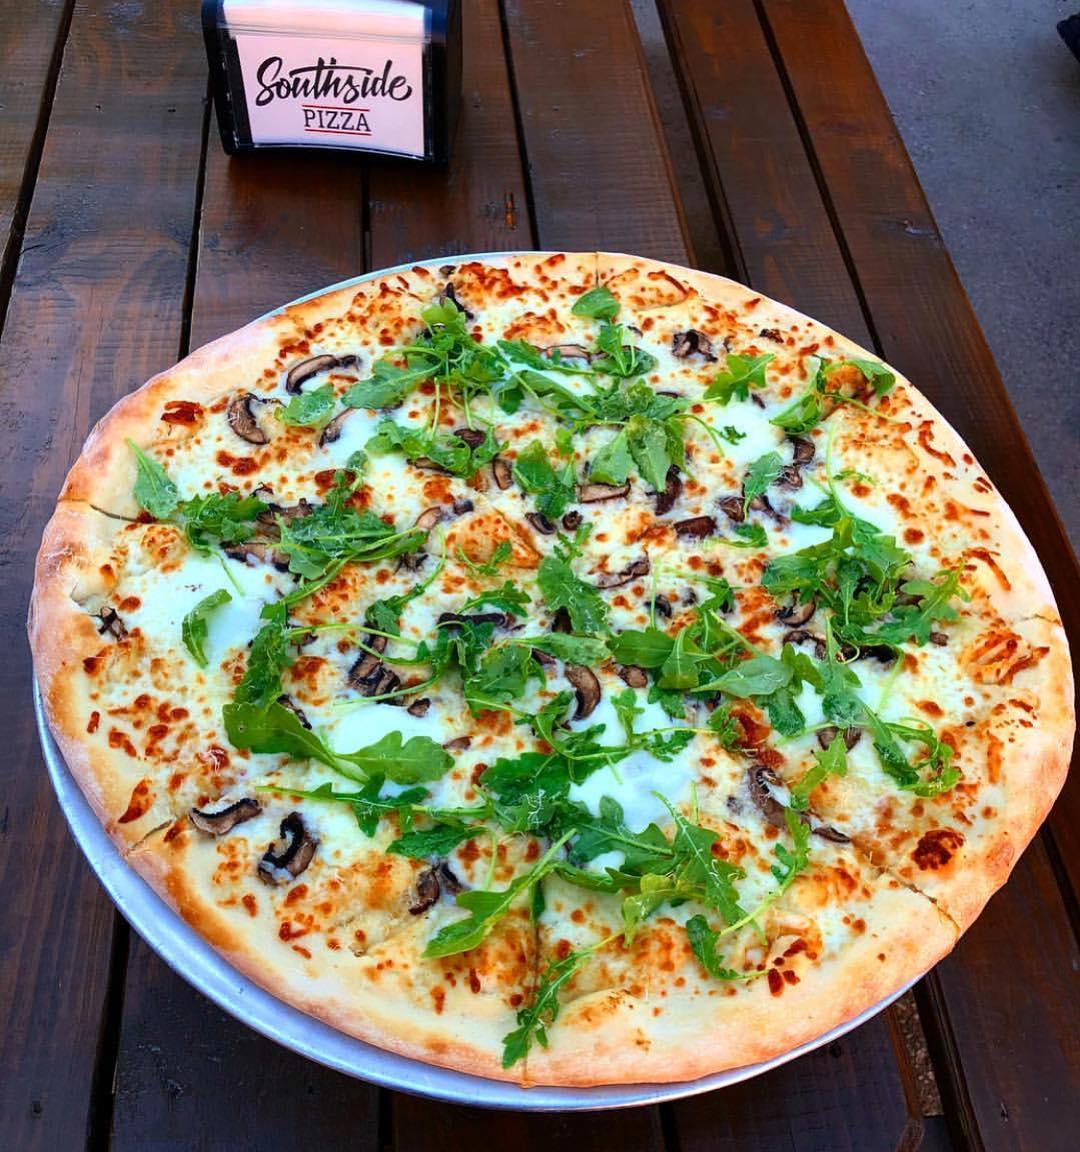Arugula: (773, 492, 972, 660), (602, 588, 810, 736), (555, 785, 735, 946), (492, 366, 698, 500), (233, 765, 524, 856), (267, 468, 428, 602), (424, 826, 583, 957), (338, 293, 505, 414), (810, 680, 968, 800), (505, 686, 700, 778), (209, 690, 378, 795), (468, 727, 630, 831), (497, 932, 612, 1079), (416, 614, 549, 729), (735, 801, 818, 938), (765, 352, 899, 436), (524, 518, 612, 637), (327, 727, 459, 796), (227, 587, 310, 694), (343, 418, 508, 468), (172, 485, 272, 554), (164, 582, 237, 675), (118, 434, 188, 523), (580, 310, 662, 384), (499, 621, 612, 673), (695, 344, 772, 414), (485, 330, 596, 375), (680, 914, 742, 987), (737, 449, 787, 519), (463, 571, 530, 623), (277, 379, 338, 435), (451, 531, 520, 577), (562, 280, 626, 321)
Mushroom: (525, 642, 652, 726), (731, 762, 855, 843), (345, 622, 435, 724), (228, 492, 332, 575), (258, 809, 318, 891), (773, 585, 832, 660), (407, 855, 469, 919), (281, 349, 366, 394), (219, 388, 277, 453), (183, 793, 264, 837), (571, 547, 658, 589), (401, 499, 449, 572), (571, 461, 636, 510), (539, 337, 652, 363), (88, 600, 141, 651), (519, 502, 592, 539), (429, 608, 522, 636), (740, 474, 790, 527), (647, 455, 684, 522), (777, 428, 817, 488), (269, 687, 319, 736), (315, 402, 367, 447), (667, 326, 719, 362), (810, 722, 868, 754), (834, 640, 901, 666), (672, 513, 718, 545), (444, 278, 479, 320), (645, 585, 676, 620), (547, 606, 580, 638), (285, 620, 319, 651), (718, 493, 752, 520), (453, 421, 489, 445), (449, 491, 477, 518), (927, 629, 957, 653), (655, 389, 683, 400), (751, 395, 769, 412)
Pizza: (24, 247, 1080, 1095)
